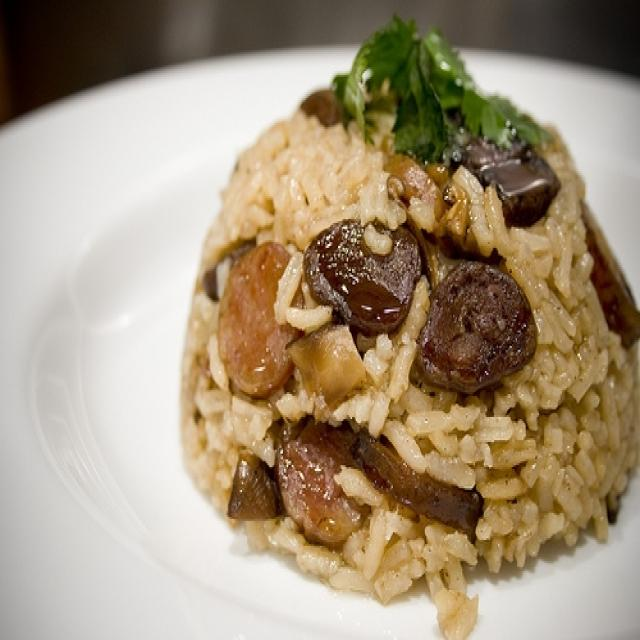米饭主食: (5, 39, 631, 636)
